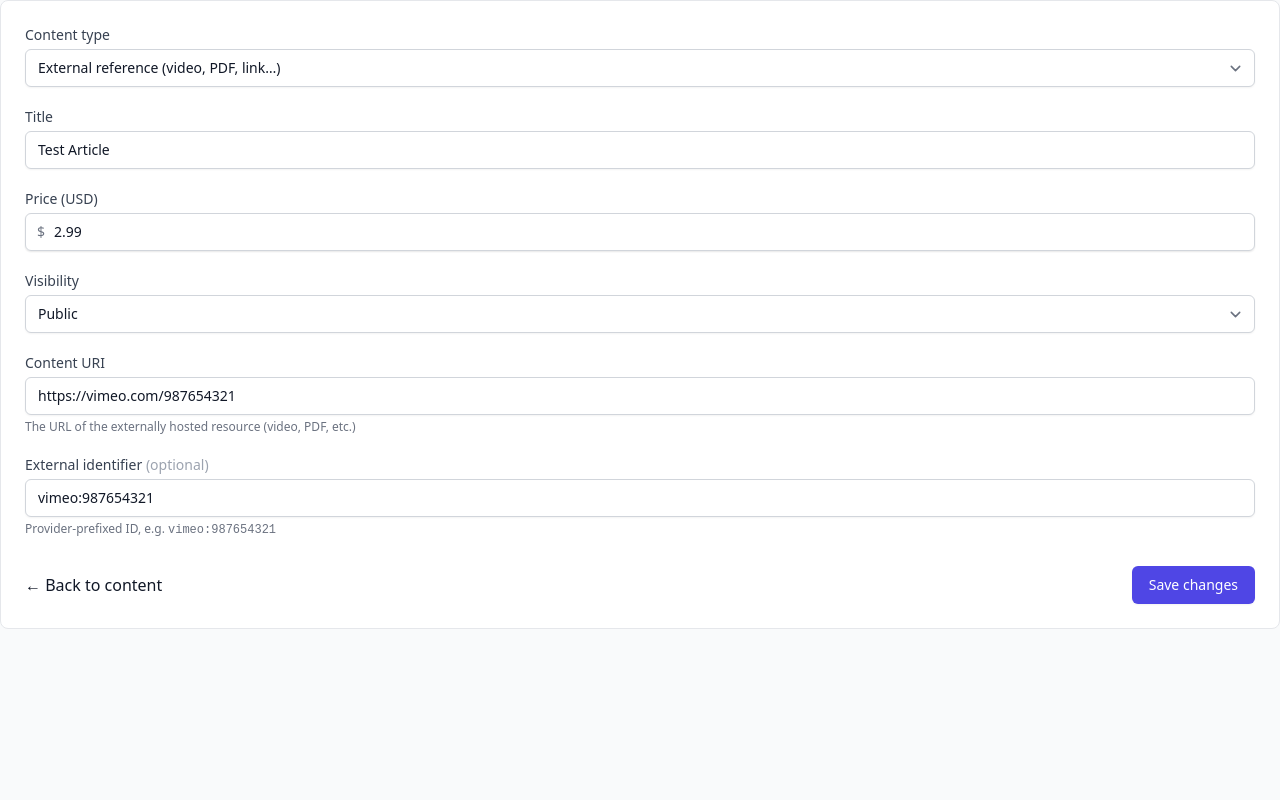
Test: EditContentForm › toggling from external_ref to markdown shows markdown editor and hides URI fields
Expected: the field labelled "Content URI" is shown, [25,377,1255,415]
Select "Markdown article" in the dropdown labelled "Content type" at (640, 68), box [25,49,1255,87]
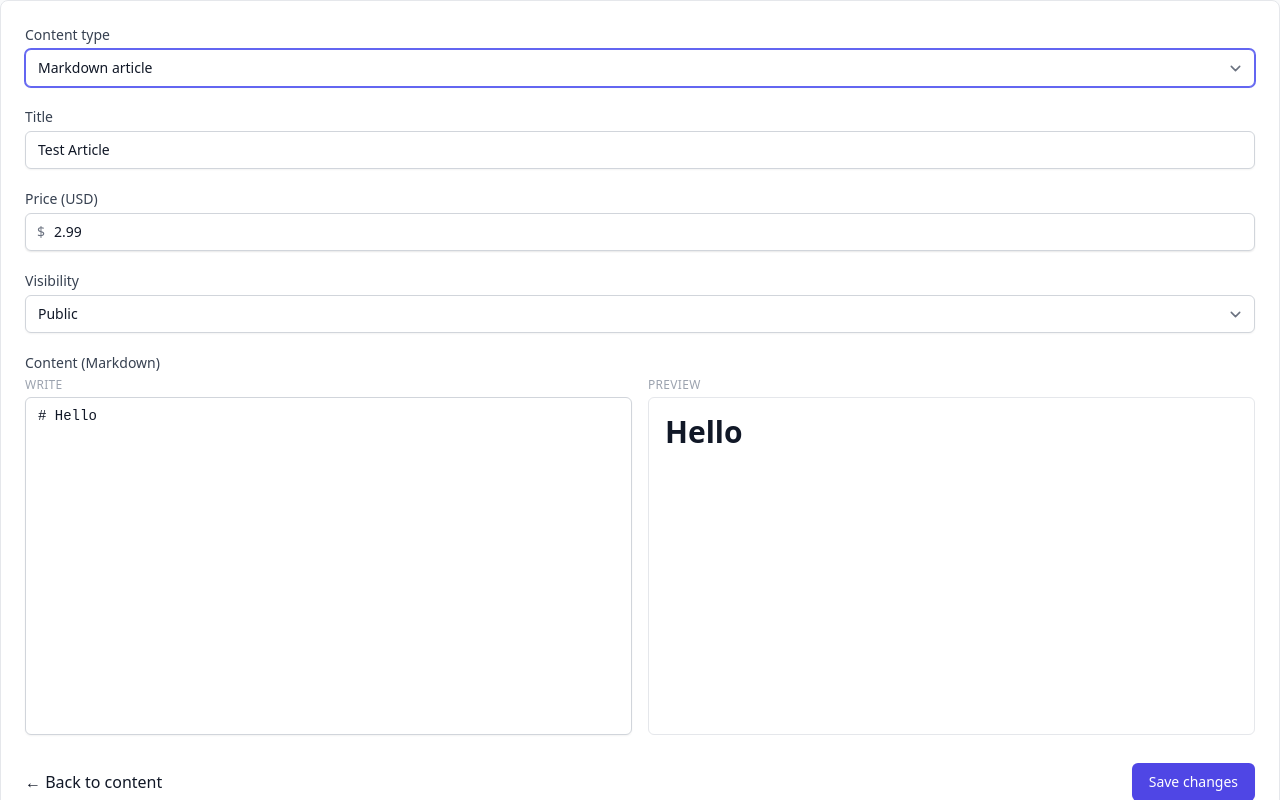
Result: the label labelled "Content URI" is gone
Result: the text box named "markdown source" is shown at [25,397,632,735]
